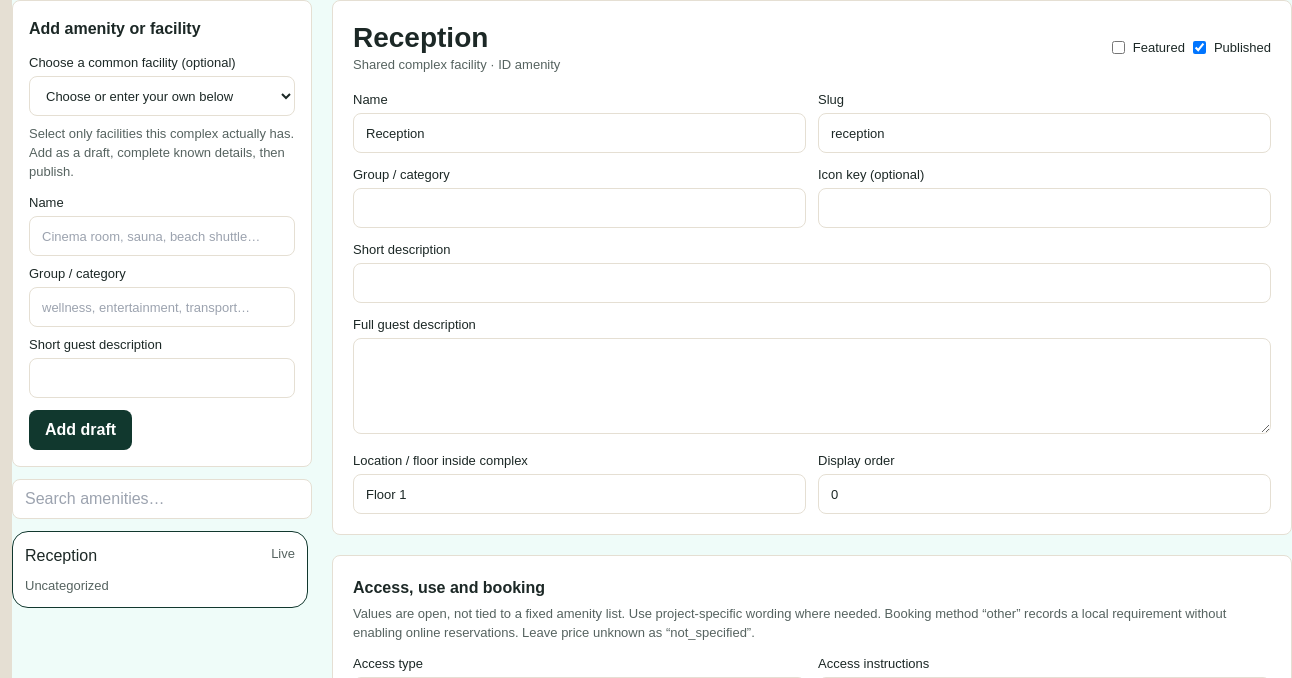
complex amenity editing › creates a draft then resets the captured form after asynchronous response
Type "New facility" into the field labelled "Name" below "Choose a common facility (optional)" at x=162, y=236, box [29,216,295,256]
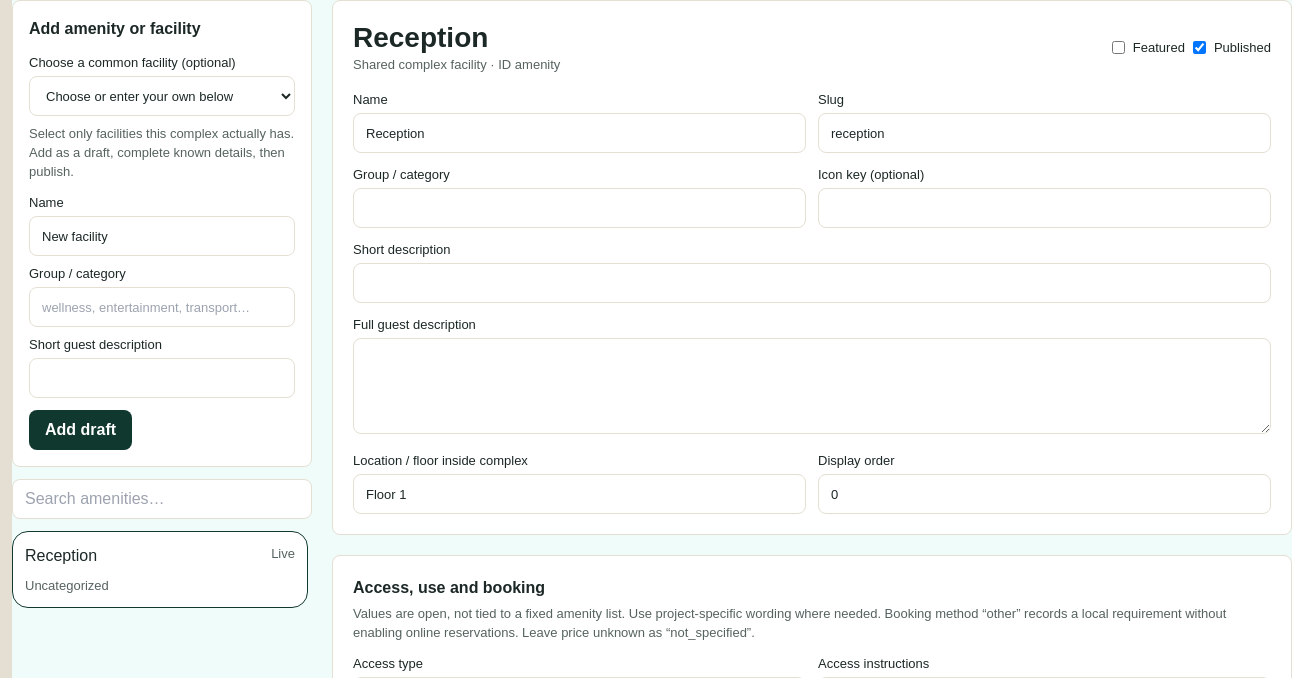
Submit the form named "Add draft", box [12,0,312,467]
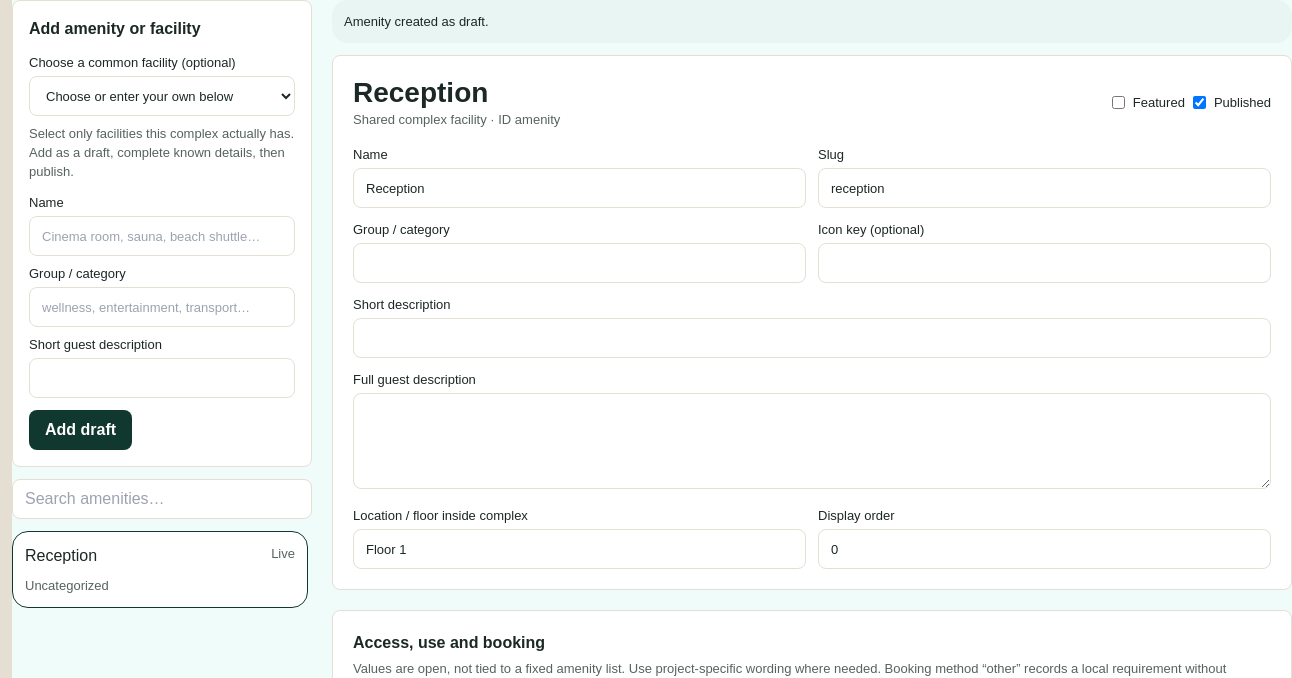
Check: the text "Amenity created as draft." is shown, box [332,0,1291,43]
Check: the field labelled "Name" below "Choose a common facility (optional)" is empty, box [29,216,295,256]
